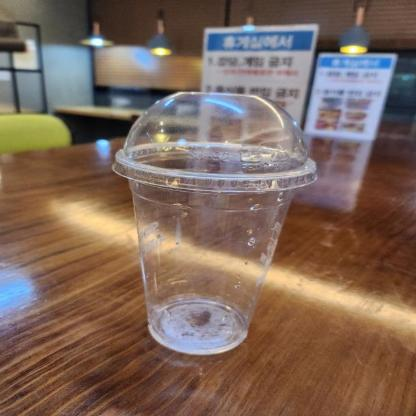Plastic Cup: (111, 86, 317, 358)
